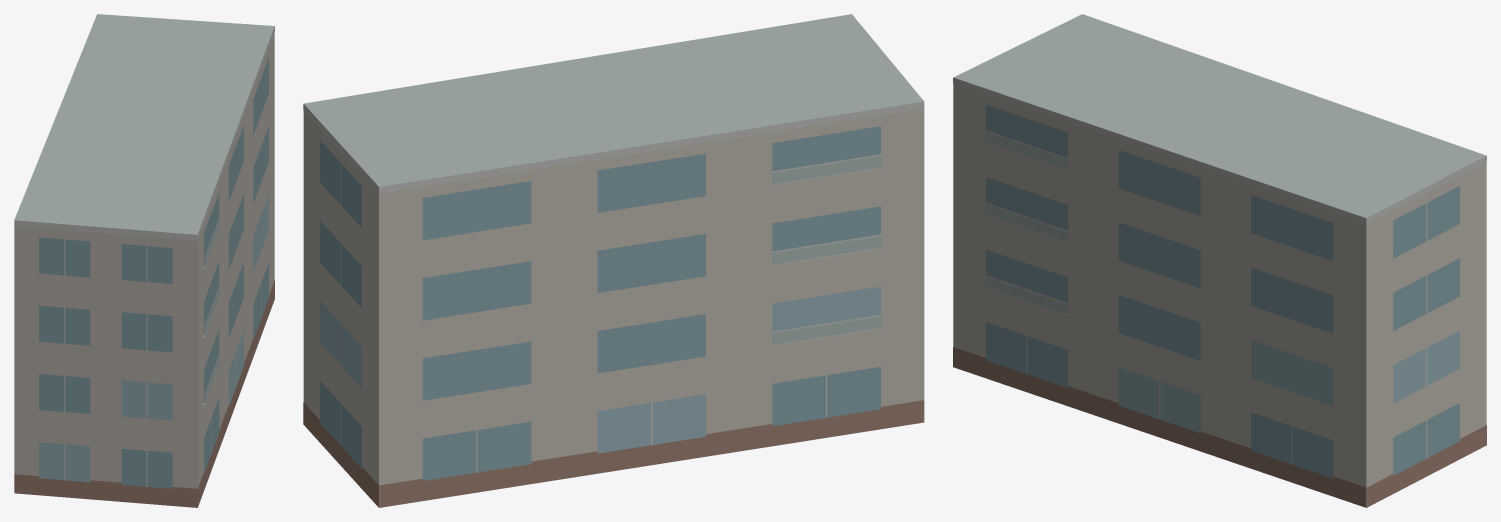
The model's file is survey-upis-32628529.glb.
3 views of the same model, side by side, from view 1: azimuth 30°, elevation 25°; view 2: azimuth 150°, elevation 25°; view 3: azimuth 270°, elevation 25° (orthographic). The views are drawn at different scales.
Visible parts, largest first — view 1: survey-upis-32628529.tmp; view 2: survey-upis-32628529.tmp; view 3: survey-upis-32628529.tmp.
Part boxes in pixels (<box>): survey-upis-32628529.tmp: <box>14,14,274,507</box>; survey-upis-32628529.tmp: <box>303,14,924,507</box>; survey-upis-32628529.tmp: <box>953,14,1486,507</box>.
Size of the model in its own units: 16.94 by 11.2 by 18.7.
